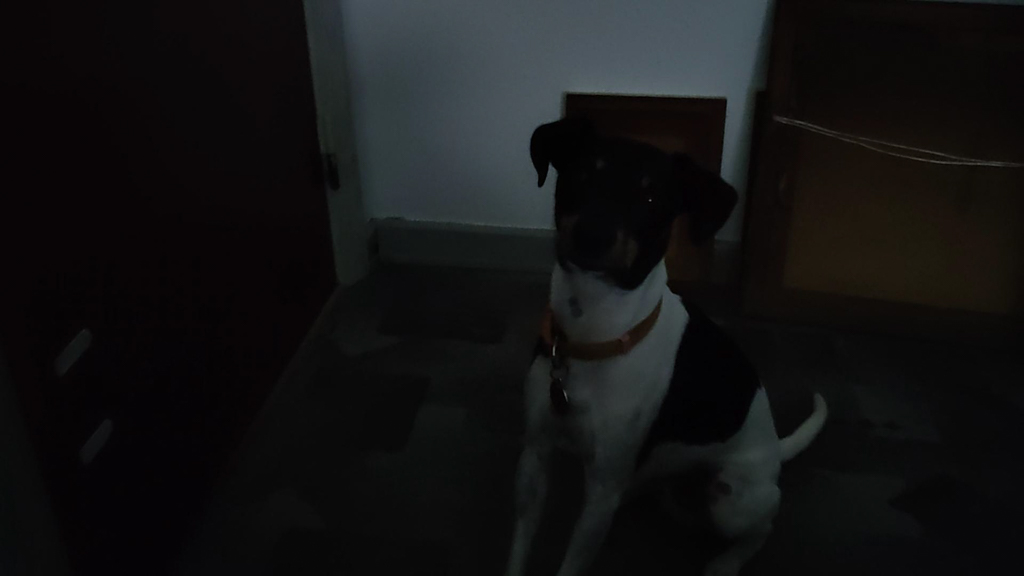Dog: (497, 103, 838, 576)
